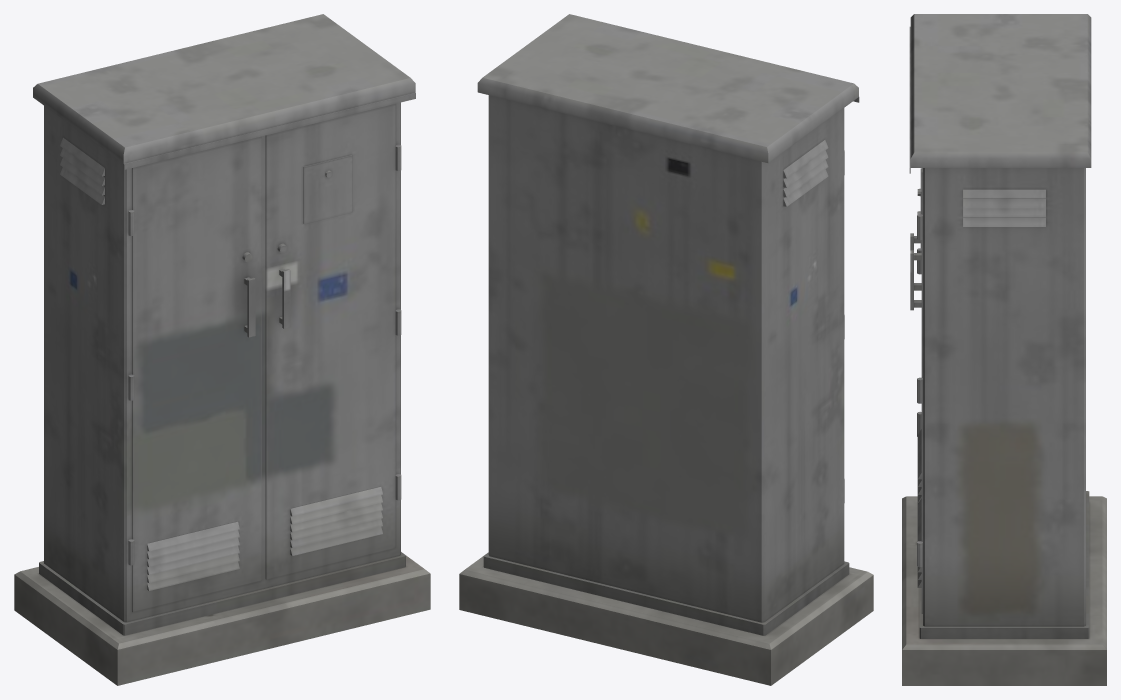
Rendered from cabinet-v1.glb.
3 renders of one model, left to right at view 1: azimuth 30°, elevation 25°; view 2: azimuth 150°, elevation 25°; view 3: azimuth 270°, elevation 25°, orthographic.
Parts seen in each view (by area): view 1: cabinet-v1; view 2: cabinet-v1; view 3: cabinet-v1.
Part boxes in pixels (bbox=[...]): cabinet-v1: bbox=[14, 14, 430, 685]; cabinet-v1: bbox=[459, 14, 873, 685]; cabinet-v1: bbox=[902, 14, 1106, 685].
Size of the model in its own units: 1.03 by 1.68 by 0.5899.
1 material, 1 textured.
